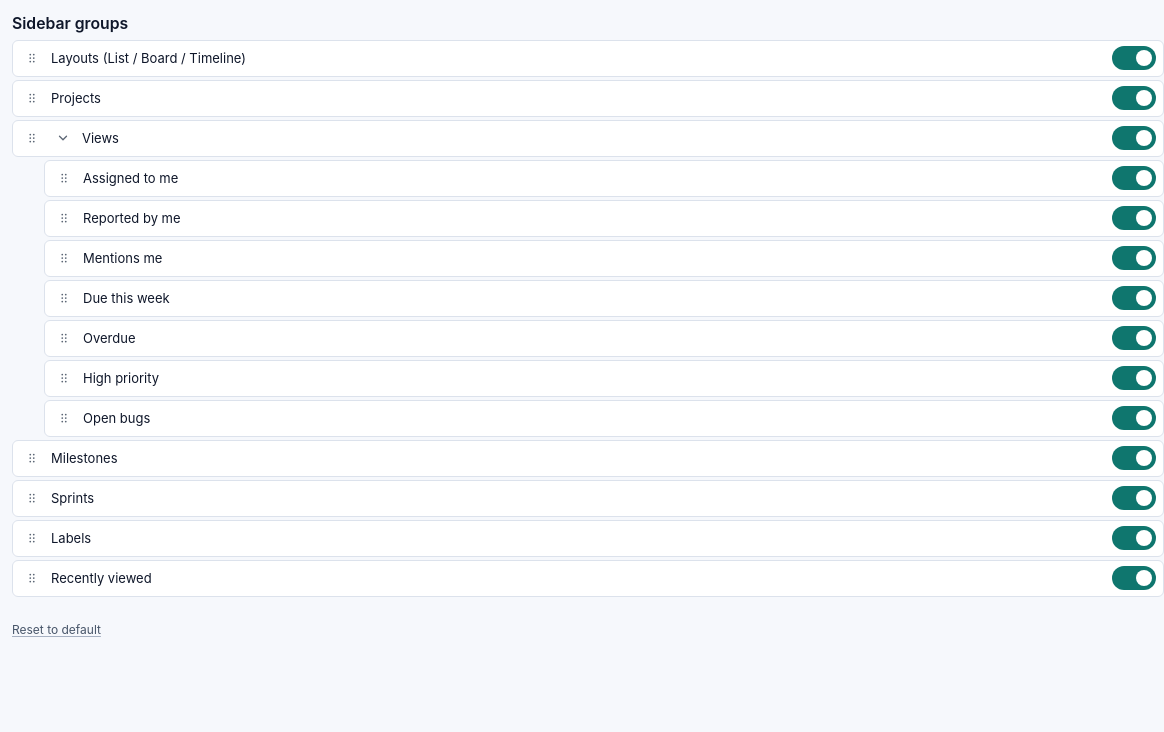
Test case: SidebarGroupsPanel › K158 (K125's rule): switching the Views group off disables every child's switch and handle
Expected: the text "Projects" is shown, x1=51 y1=90 x2=101 y2=106
Click the switch with test id "sidebar-group-toggle-views".
click(1134, 138)  # box x1=1112 y1=126 x2=1156 y2=150
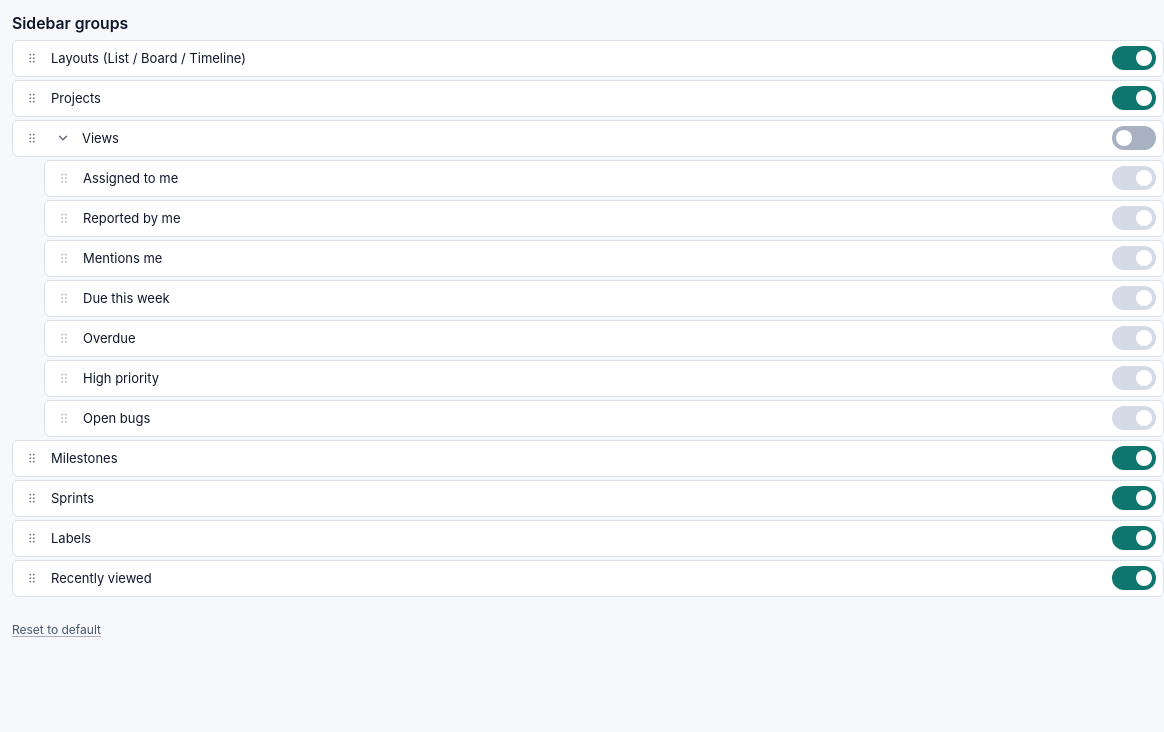
Now the switch with test id "sidebar-view-toggle-view:v_bugs" is disabled, box x1=1112 y1=406 x2=1156 y2=430
Now the button with test id "sidebar-view-handle-view:v_bugs" is disabled, box x1=52 y1=406 x2=76 y2=430
